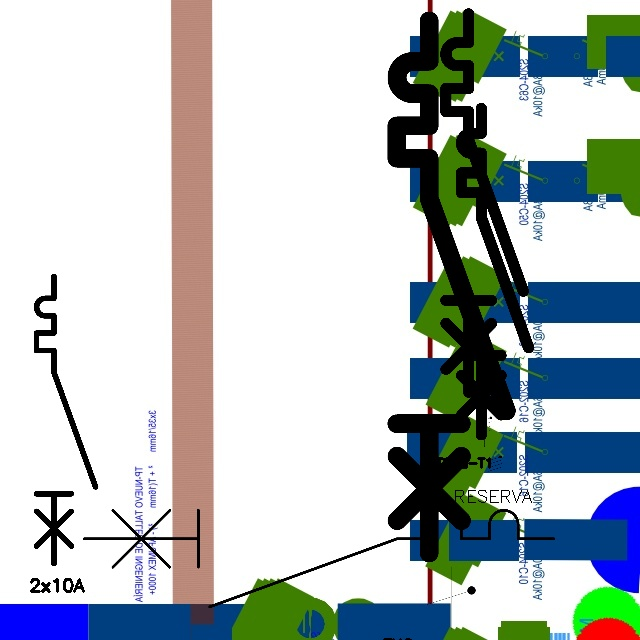interruptor_termomagnetico: (383, 7, 520, 567), (72, 498, 566, 619), (436, 4, 533, 402), (453, 100, 537, 443), (29, 269, 102, 570)
